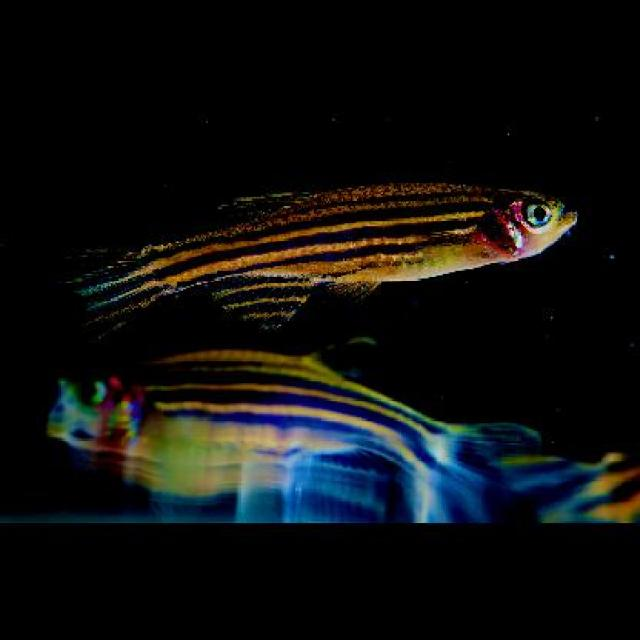ZebraFish: (59, 181, 578, 336)
